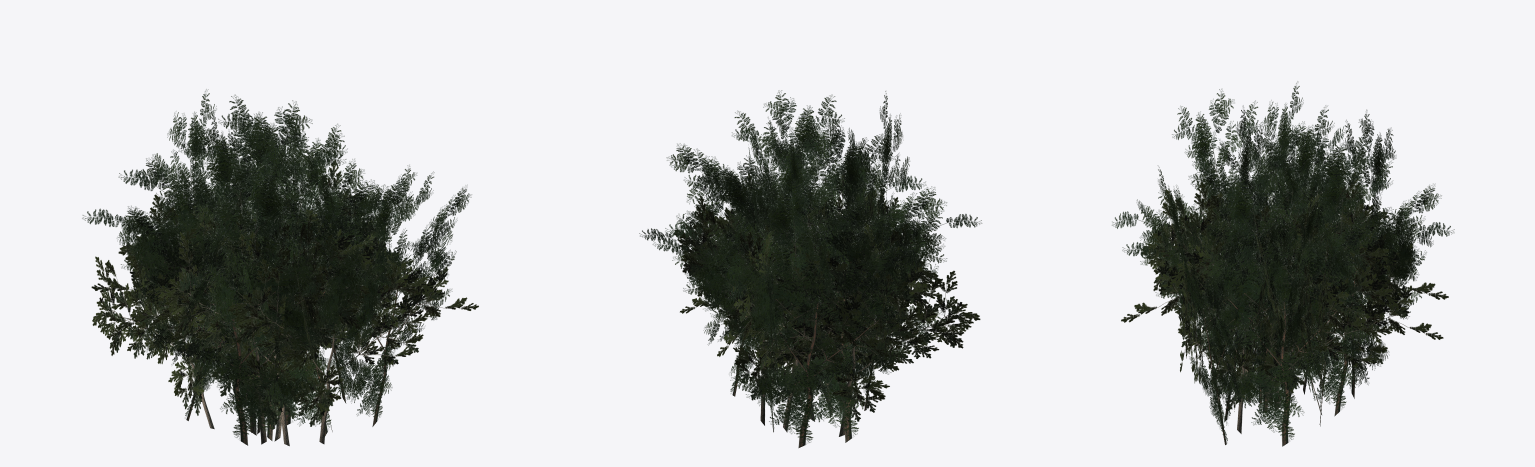
The picture shows the model from 3 angles, left to right: view 1: azimuth 30°, elevation 25°; view 2: azimuth 150°, elevation 25°; view 3: azimuth 270°, elevation 25°; orthographic projection. The views are drawn at different scales.
Visible parts, largest first — view 1: ST_TallBush; view 2: ST_TallBush; view 3: ST_TallBush.
Boxes of the visible parts, <box> form: ST_TallBush: <box>82,89,478,446</box>; ST_TallBush: <box>639,90,981,447</box>; ST_TallBush: <box>1112,81,1454,446</box>.
Size of the model in its own units: 15.93 by 10.83 by 13.68.
Materials: 2 (2 with a texture image).
